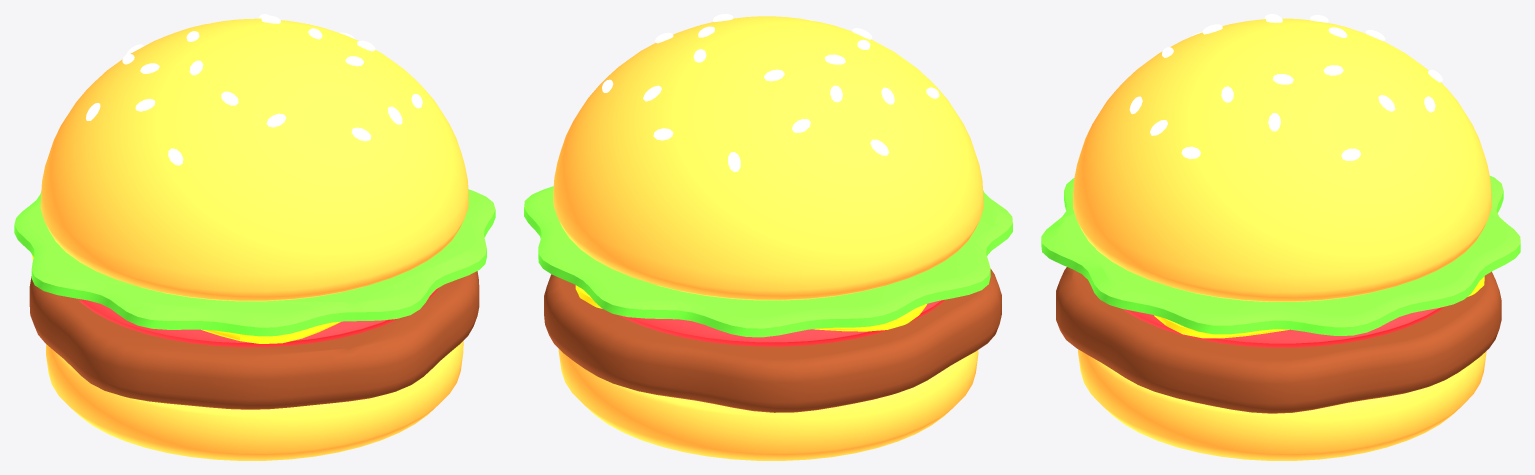
3 renders of one model, left to right at view 1: azimuth 30°, elevation 25°; view 2: azimuth 150°, elevation 25°; view 3: azimuth 270°, elevation 25°, orthographic.
Visible parts, largest first — view 1: Burger-whole; view 2: Burger-whole; view 3: Burger-whole.
Part boxes in pixels (bbox=[...]): Burger-whole: bbox=[14, 14, 495, 460]; Burger-whole: bbox=[524, 14, 1012, 460]; Burger-whole: bbox=[1041, 14, 1520, 460].
Size of the model in its own units: 0.0832 by 0.0645 by 0.0818.
